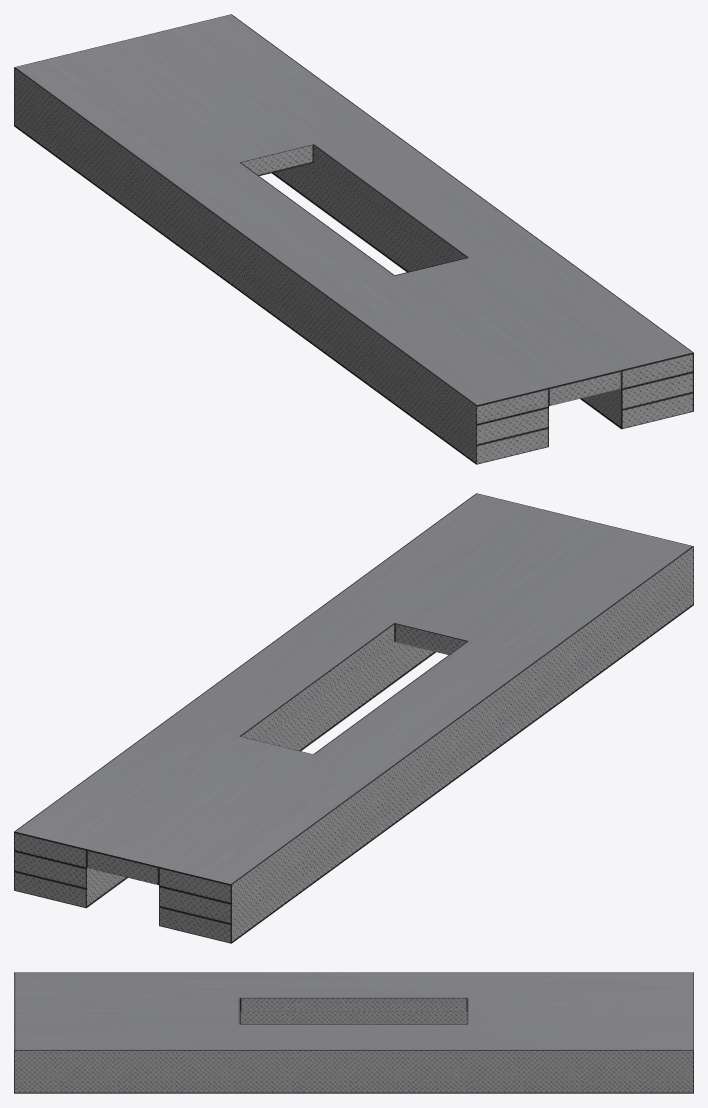
Rendered from StartMenuMapTex.FBX.
The picture shows the model from 3 angles, top to bottom: view 1: azimuth 30°, elevation 25°; view 2: azimuth 150°, elevation 25°; view 3: azimuth 270°, elevation 25°; orthographic projection. The views are drawn at different scales.
Visible parts, largest first — view 1: Box001; view 2: Box001; view 3: Box001.
Boxes of the visible parts, bbox=[...] form: Box001: bbox=[14, 14, 693, 464]; Box001: bbox=[14, 493, 693, 943]; Box001: bbox=[14, 972, 693, 1093].
Bounding box in the file's own units: 993 × 257 × 3657.
1 material, 1 textured.
